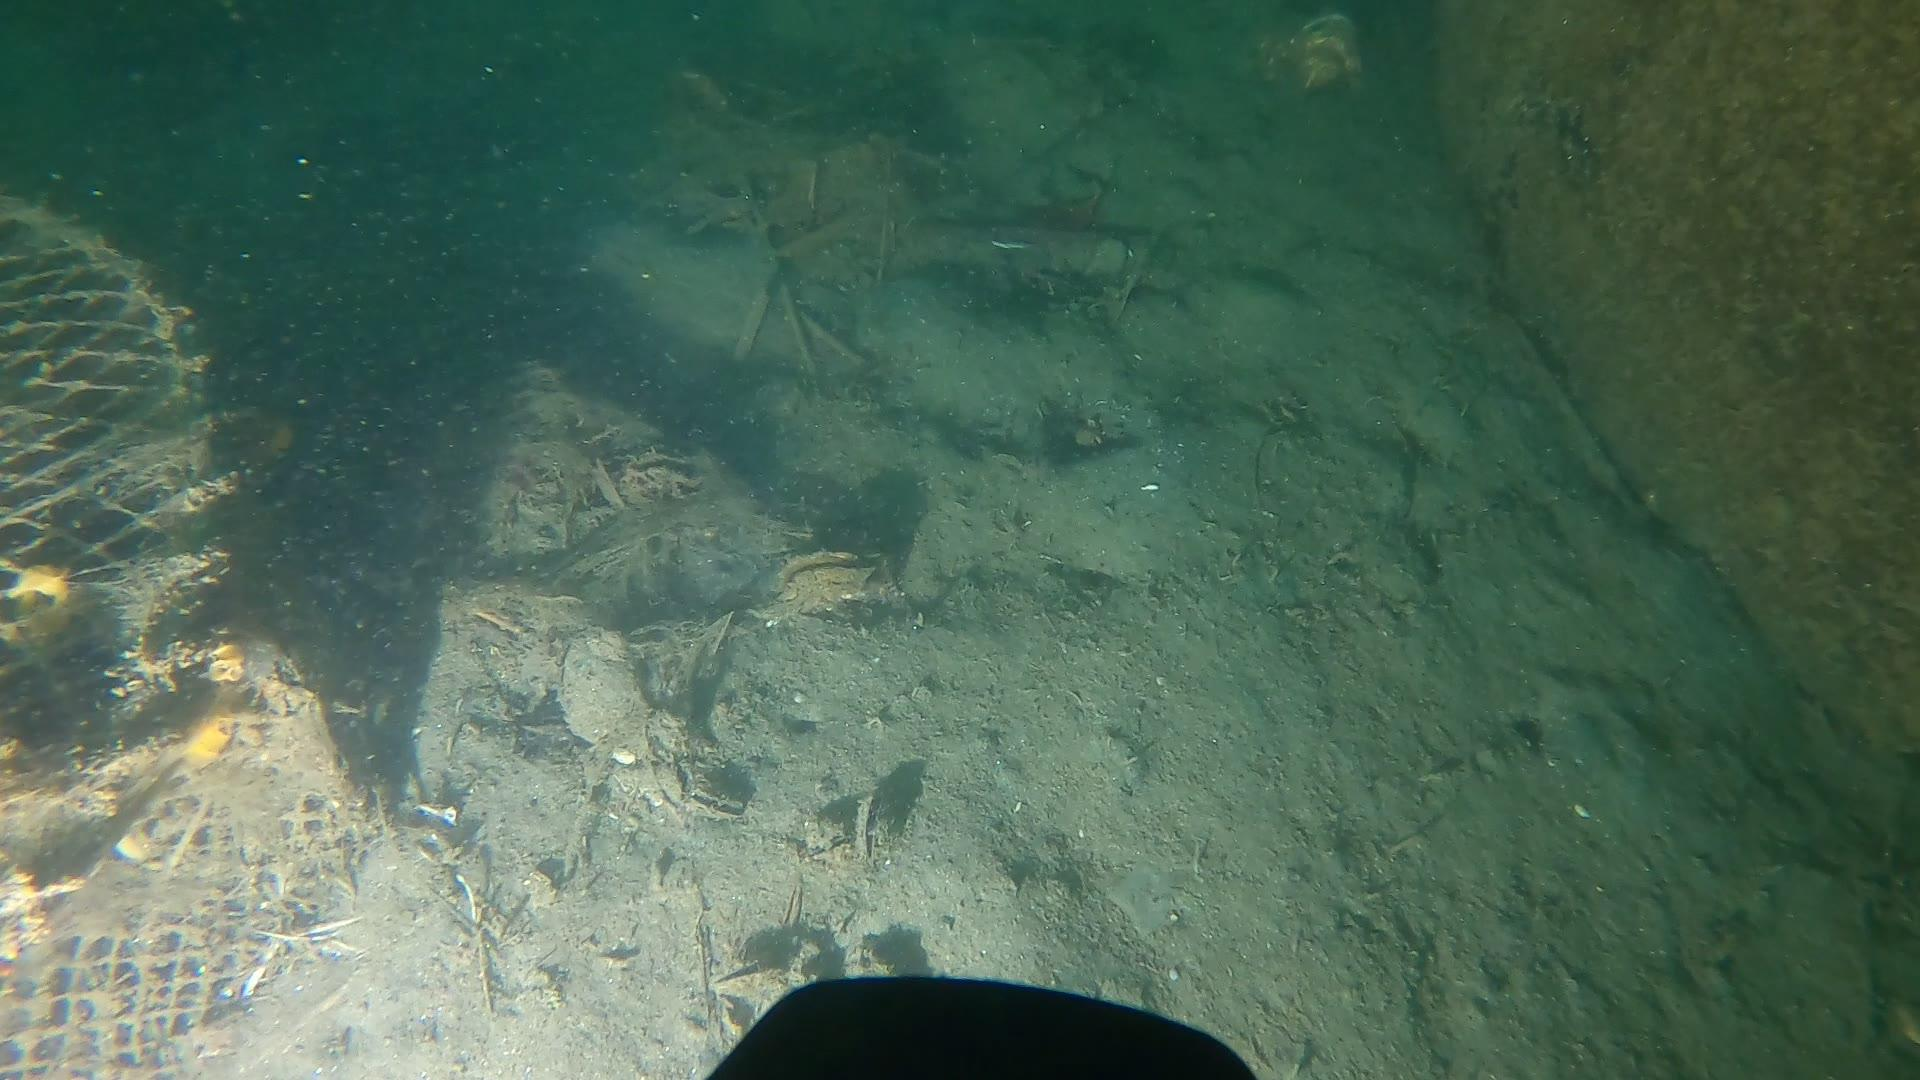circular fish trap: (0, 196, 344, 1080)
